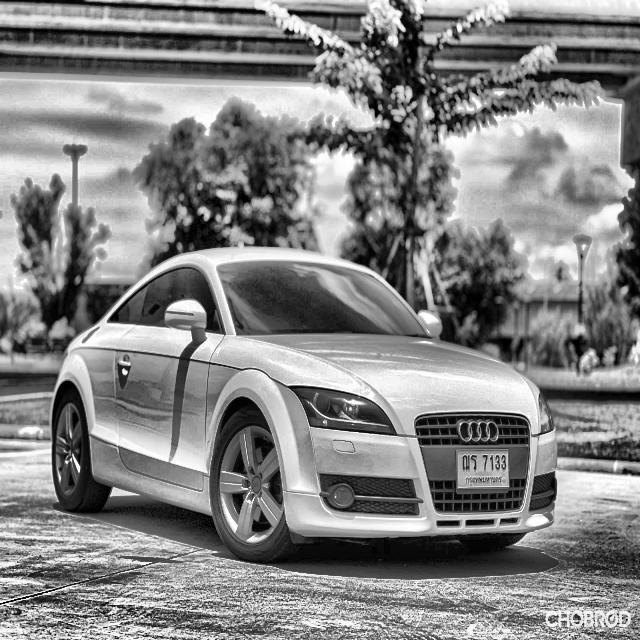license-plate: (456, 448, 514, 491)
